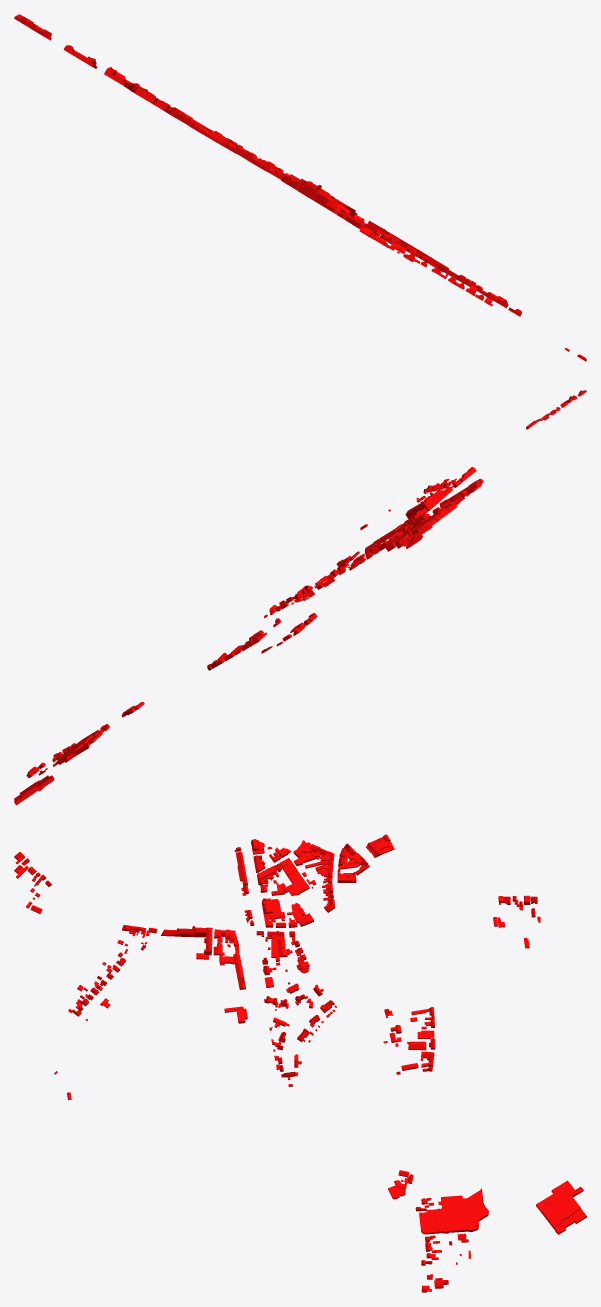
3 views of the same model, one above another, from view 1: azimuth 30°, elevation 25°; view 2: azimuth 150°, elevation 25°; view 3: azimuth 270°, elevation 25° (orthographic). The views are drawn at different scales.
Parts seen in each view (by area): view 1: mesh; view 2: mesh; view 3: mesh.
Part boxes in pixels (x1,y1,x2,y2): mesh: (14,14,586,361); mesh: (14,390,586,805); mesh: (14,834,586,1292).
Size of the model in its own units: 751 by 605 by 1076.
